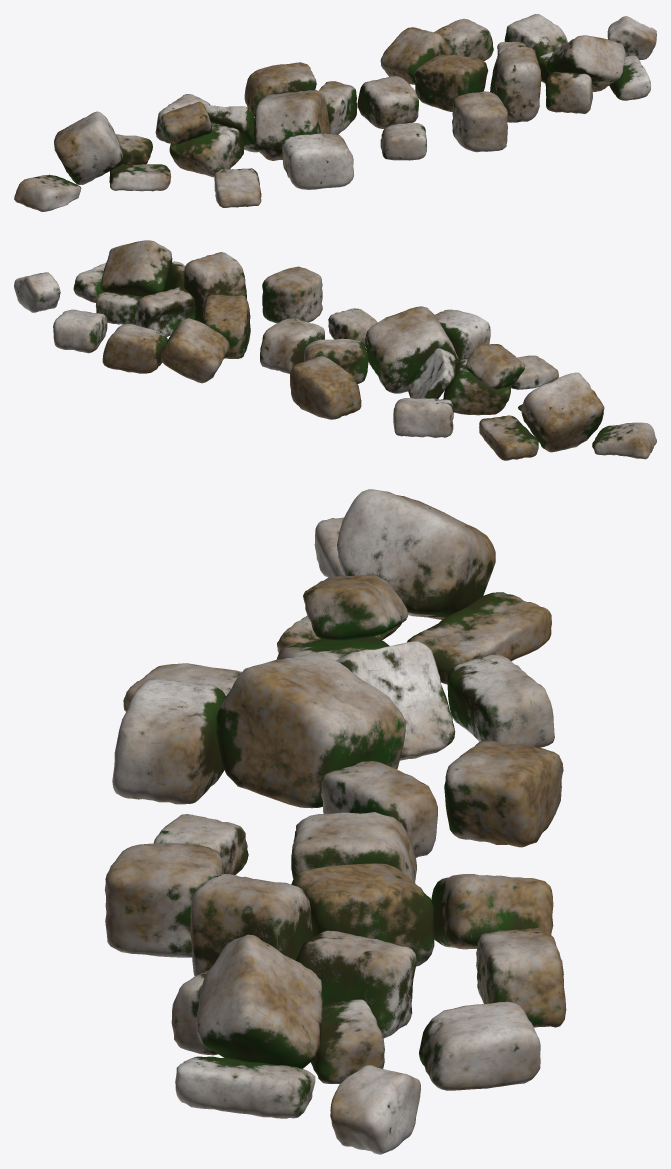
File: Pieces.fbx
3 views of the same model, one above another, from view 1: azimuth 30°, elevation 25°; view 2: azimuth 150°, elevation 25°; view 3: azimuth 270°, elevation 25° (orthographic). The views are drawn at different scales.
Visible parts, largest first — view 1: Pieces; view 2: Pieces; view 3: Pieces.
Boxes of the visible parts, x1,y1,x2,y2 form: Pieces: (14,14,656,211); Pieces: (14,240,656,460); Pieces: (104,489,566,1154).
Bounding box in the file's own units: 354 × 34.55 × 111.
Materials: 1 (1 with a texture image).
